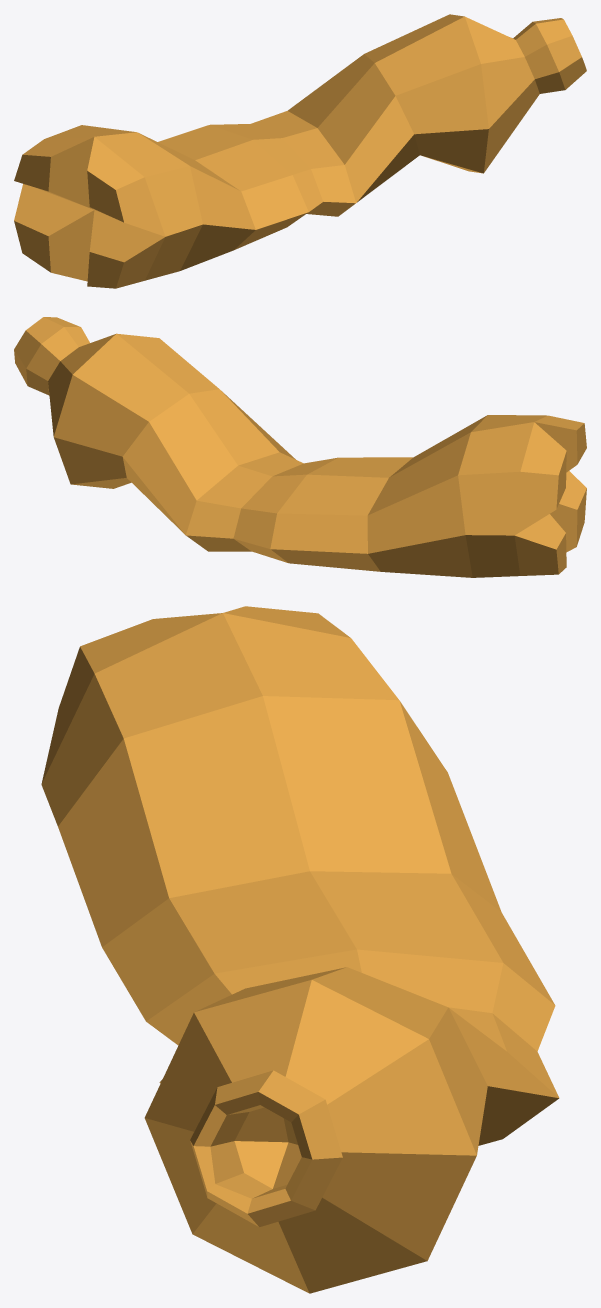
Rendered from water-bottle-crushed.fbx.
3 renders of one model, top to bottom at view 1: azimuth 30°, elevation 25°; view 2: azimuth 150°, elevation 25°; view 3: azimuth 270°, elevation 25°, orthographic. The views are drawn at different scales.
Visible parts, largest first — view 1: water-bottle-crushed; view 2: water-bottle-crushed; view 3: water-bottle-crushed.
Part boxes in pixels (x1=…): water-bottle-crushed: x1=14, y1=14, x2=586, y2=288; water-bottle-crushed: x1=14, y1=317, x2=586, y2=577; water-bottle-crushed: x1=41, y1=606, x2=559, y2=1293.
Size of the model in its own units: 0.4942 by 0.1376 by 0.2017.
